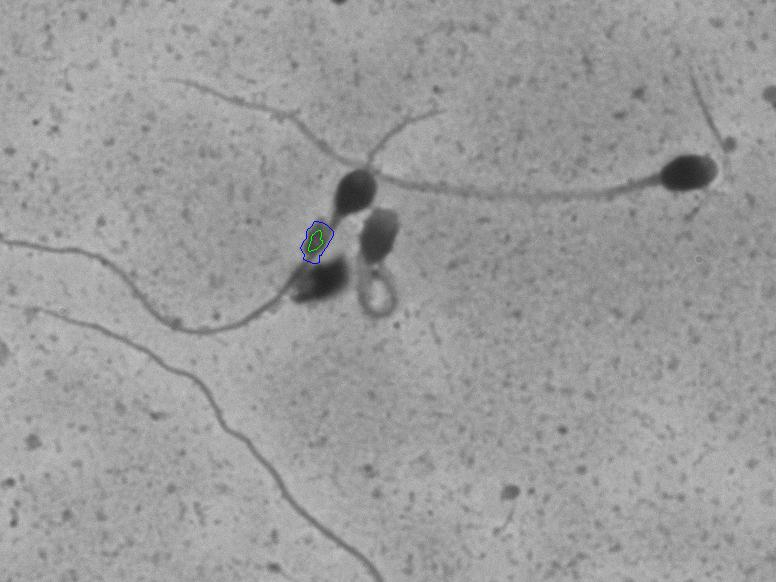Abnormal: (352, 203, 435, 349)
Normal: (138, 57, 755, 218)
